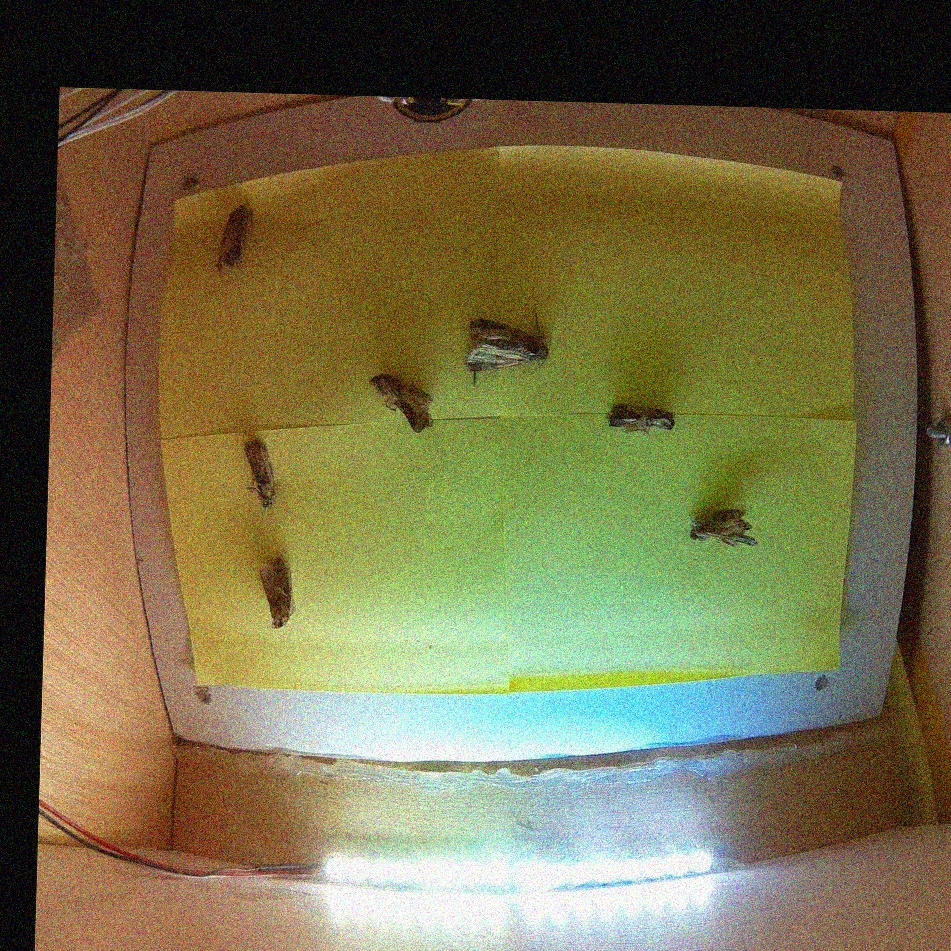Spodoptera litura: (464, 306, 550, 387), (369, 372, 435, 434), (689, 507, 759, 547), (213, 204, 253, 273), (258, 555, 293, 631), (243, 440, 279, 510), (604, 403, 675, 436)
